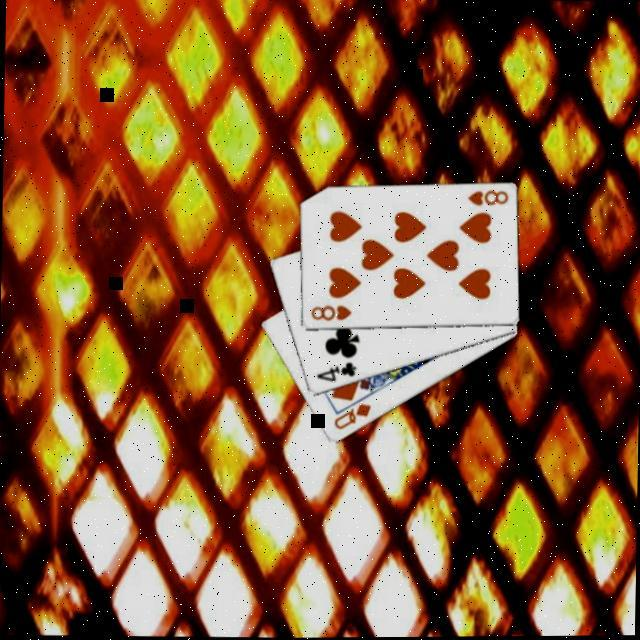4C: (315, 360, 361, 387)
8H: (310, 303, 356, 326), (466, 189, 512, 212)
QD: (331, 402, 375, 435)
